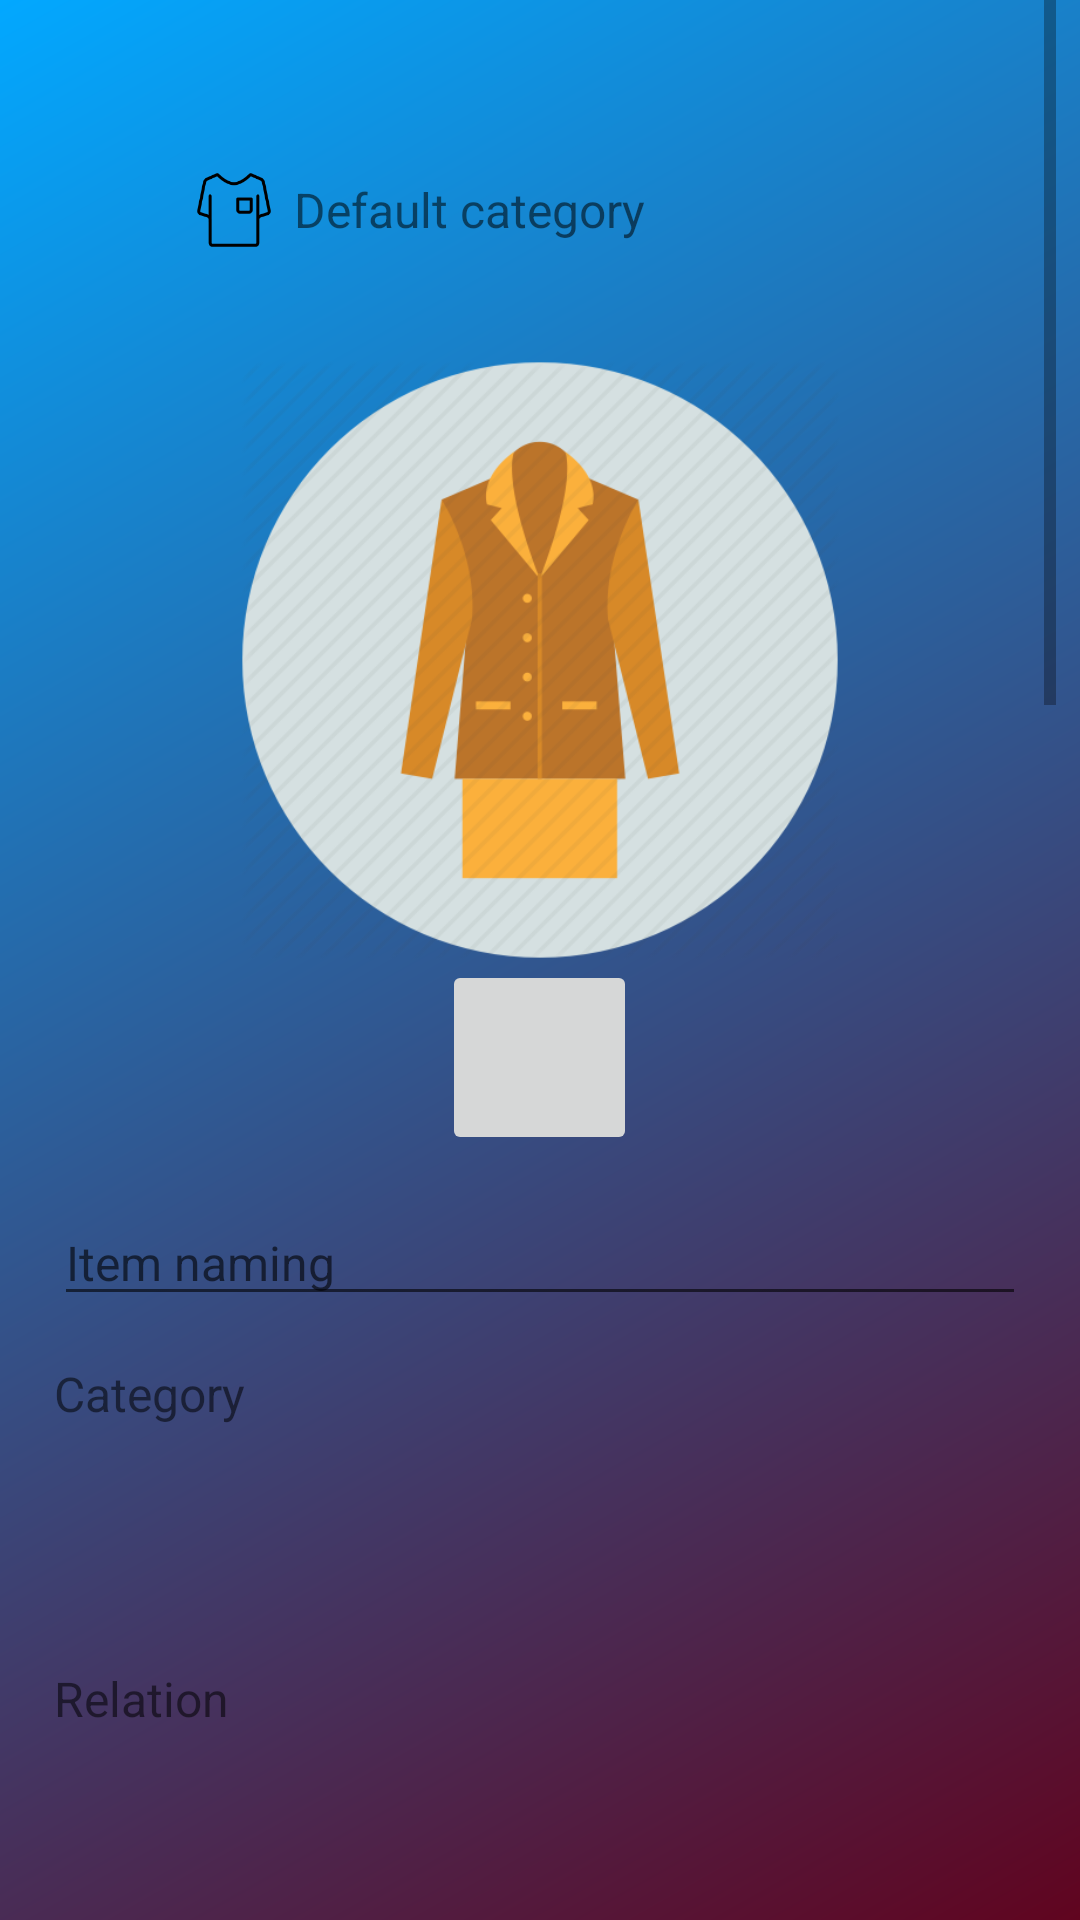

Locate icon controls on the screen. Image size 1080px x 1920px, boxes as (x1, y1, x2, y2).
shirt: (197, 173, 271, 247)
